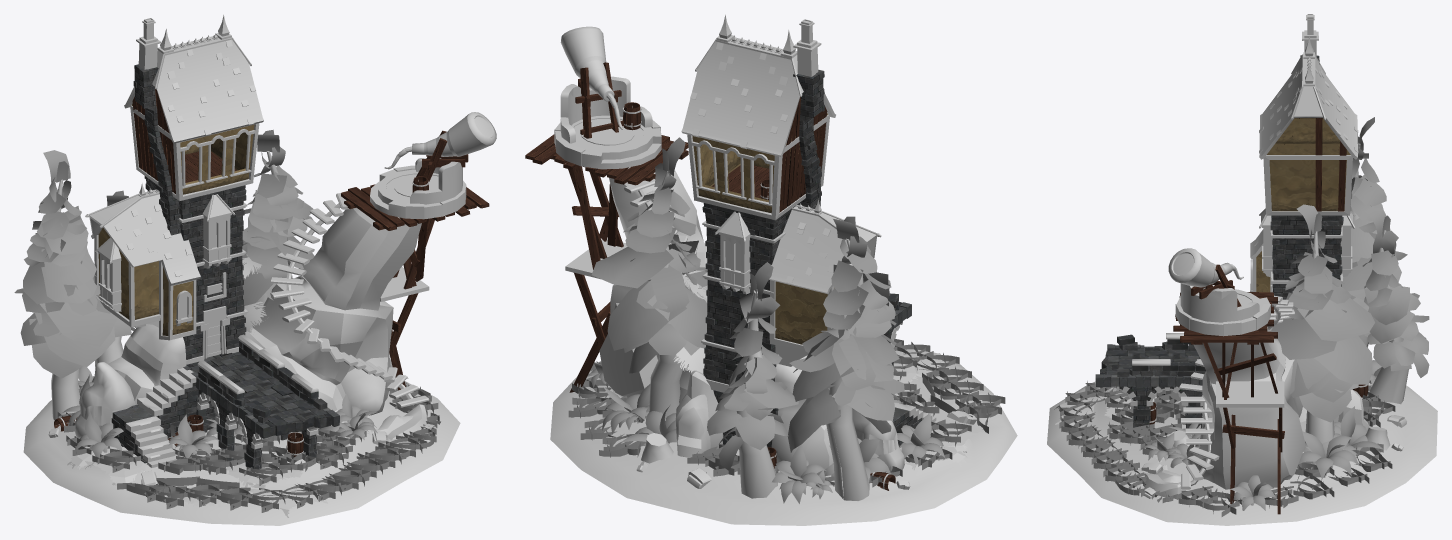
Rendered from FinalScene_Fbx.fbx.
3 renders of one model, left to right at view 1: azimuth 30°, elevation 25°; view 2: azimuth 150°, elevation 25°; view 3: azimuth 270°, elevation 25°, orthographic. The views are drawn at different scales.
Parts seen in each view (by area): view 1: Group1_Low001_UV, Cylinder047_UV, Object373, Uniques_UV, Grass_031, Object368, Object374, Object323_UV, Object377, Object371, Object286_UV, Object301 (+24 smaller); view 2: Cylinder047_UV, Object373, Object374, Group1_Low001_UV, Object368, Plane174, Uniques_UV, Object375, Object286_UV, Object376, Object371, Grass_031 (+22 smaller); view 3: Cylinder047_UV, Object374, Group1_Low001_UV, Object376, Plane174, Object377, Object368, Uniques_UV, Object373, Object300, Object284, Grass_031 (+18 smaller).
Part boxes in pixels (x1,y1,x2,y2): Group1_Low001_UV: (75, 207, 427, 439); Cylinder047_UV: (23, 376, 460, 525); Object373: (14, 150, 117, 378); Uniques_UV: (85, 14, 259, 364); Grass_031: (117, 414, 346, 512); Object368: (124, 39, 263, 143); Object374: (242, 129, 314, 323); Object323_UV: (183, 352, 339, 438); Object377: (292, 393, 440, 491); Object371: (89, 191, 200, 285); Object286_UV: (146, 179, 245, 358); Object301: (125, 334, 318, 467); Cylinder047_UV: (550, 361, 1017, 525); Object373: (787, 216, 904, 452); Object374: (591, 137, 707, 373); Group1_Low001_UV: (599, 167, 904, 473); Object368: (681, 41, 835, 157); Plane174: (707, 262, 798, 470); Uniques_UV: (687, 14, 881, 392); Object375: (687, 414, 971, 503); Object286_UV: (703, 202, 800, 384); Object376: (568, 361, 677, 457); Object371: (769, 206, 876, 293); Grass_031: (893, 339, 1005, 433); Cylinder047_UV: (1047, 381, 1437, 525); Object374: (1269, 204, 1374, 422); Group1_Low001_UV: (1144, 327, 1369, 498); Object376: (1176, 406, 1392, 516); Plane174: (1362, 207, 1429, 377); Object377: (1066, 422, 1202, 502); Object368: (1259, 57, 1357, 159); Uniques_UV: (1250, 14, 1352, 292); Object373: (1341, 117, 1410, 336); Object300: (1168, 248, 1284, 407); Object284: (1269, 160, 1346, 211); Grass_031: (1058, 381, 1210, 434).
Size of the model in its own units: 3022 by 2865 by 2567.
